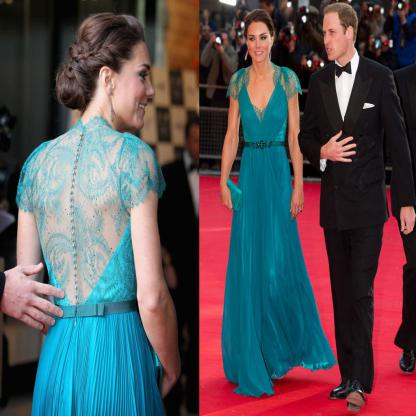face: (113, 39, 155, 130), (324, 12, 348, 61), (246, 21, 272, 63)
